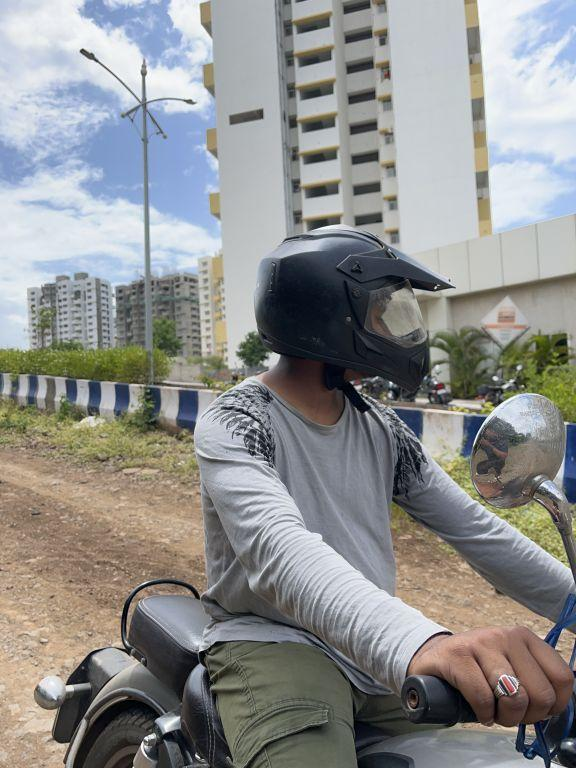helmet: (240, 205, 461, 411)
